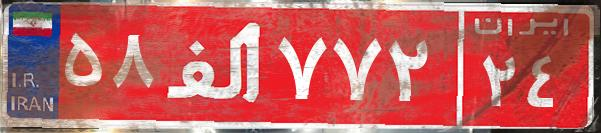2: (385, 28, 445, 110), (475, 38, 525, 113)
4: (525, 38, 570, 115)
5: (57, 26, 110, 107)
7: (273, 28, 330, 110), (330, 28, 385, 110)
8: (110, 28, 158, 105)
الف: (158, 15, 273, 115)
